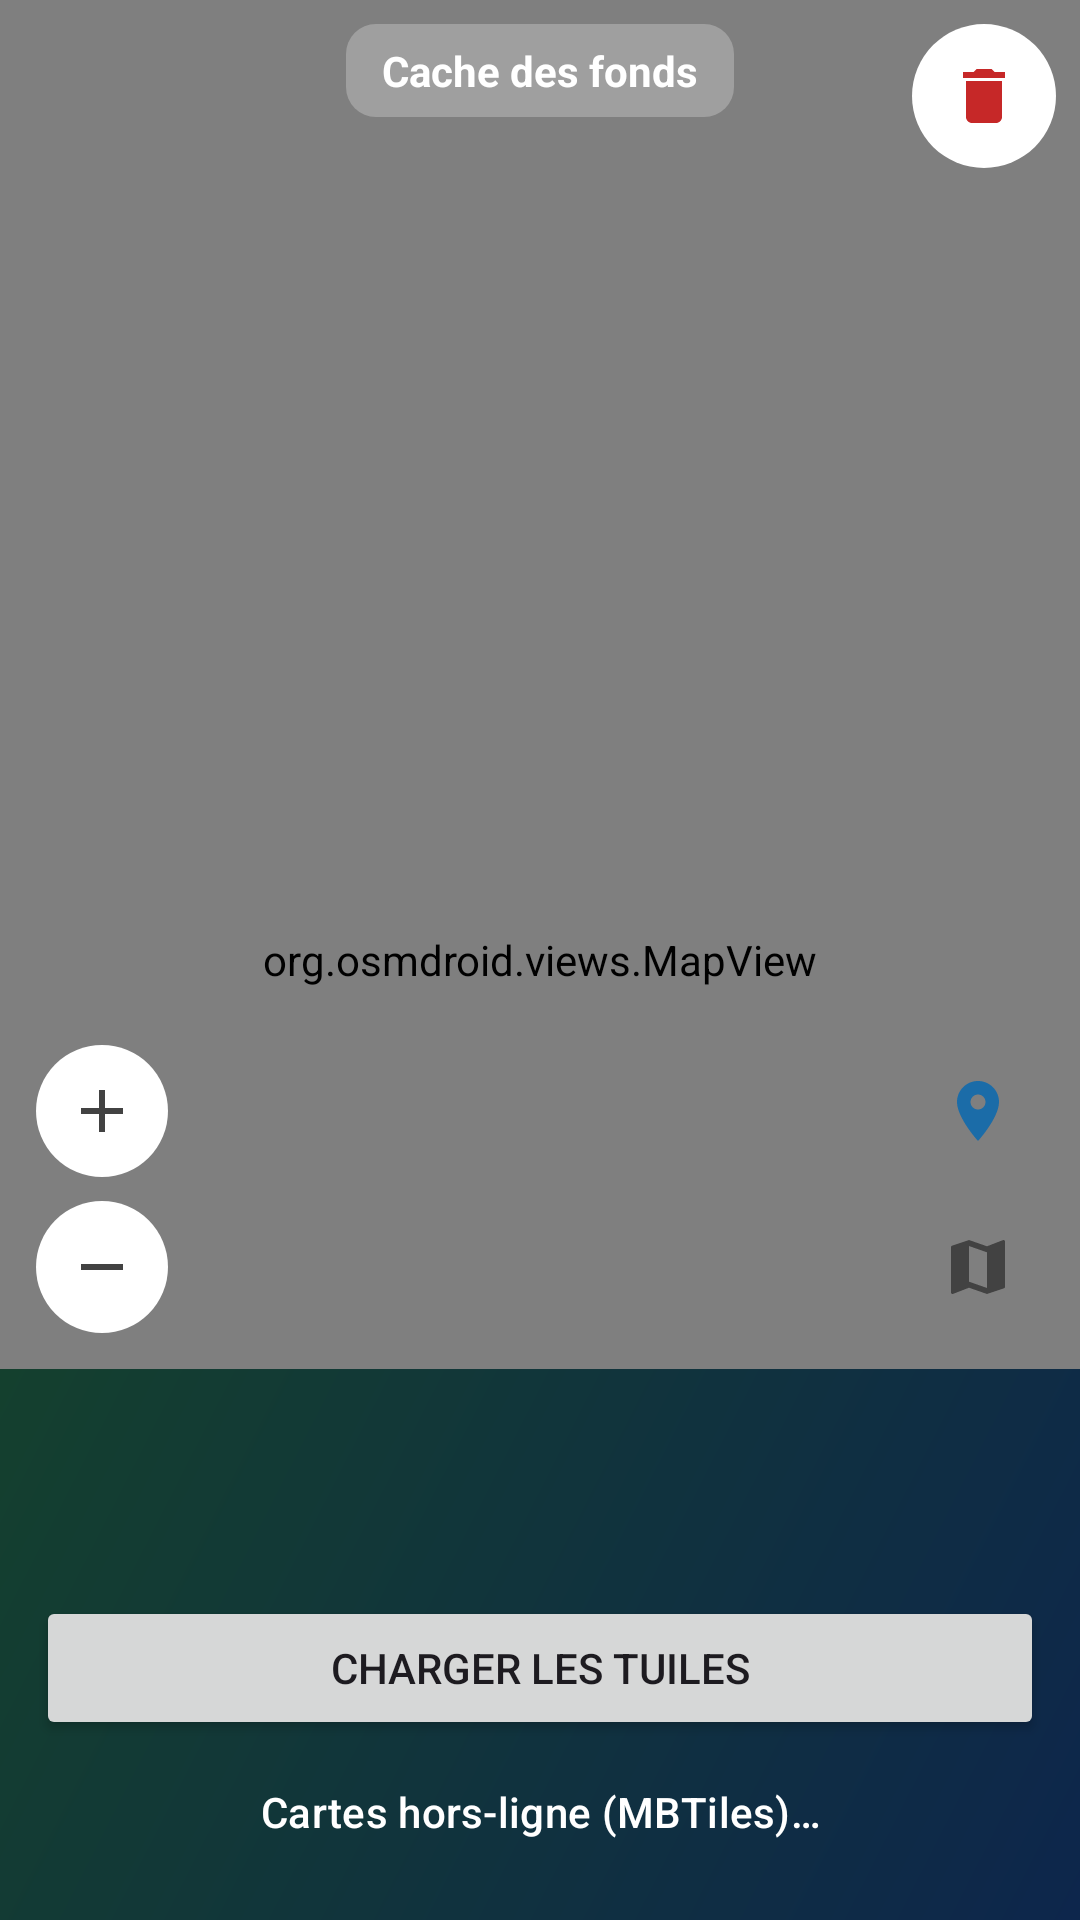

Screen size 1080*1920. Icon name, then its center in pixels as (x=x, y=y):
Changer le fond de carte: (x=978, y=1267)
Recentrer sur ma position: (x=978, y=1111)
Vider le cache: (x=984, y=96)
Zoom arrière: (x=102, y=1267)
Zoom avant: (x=102, y=1111)
